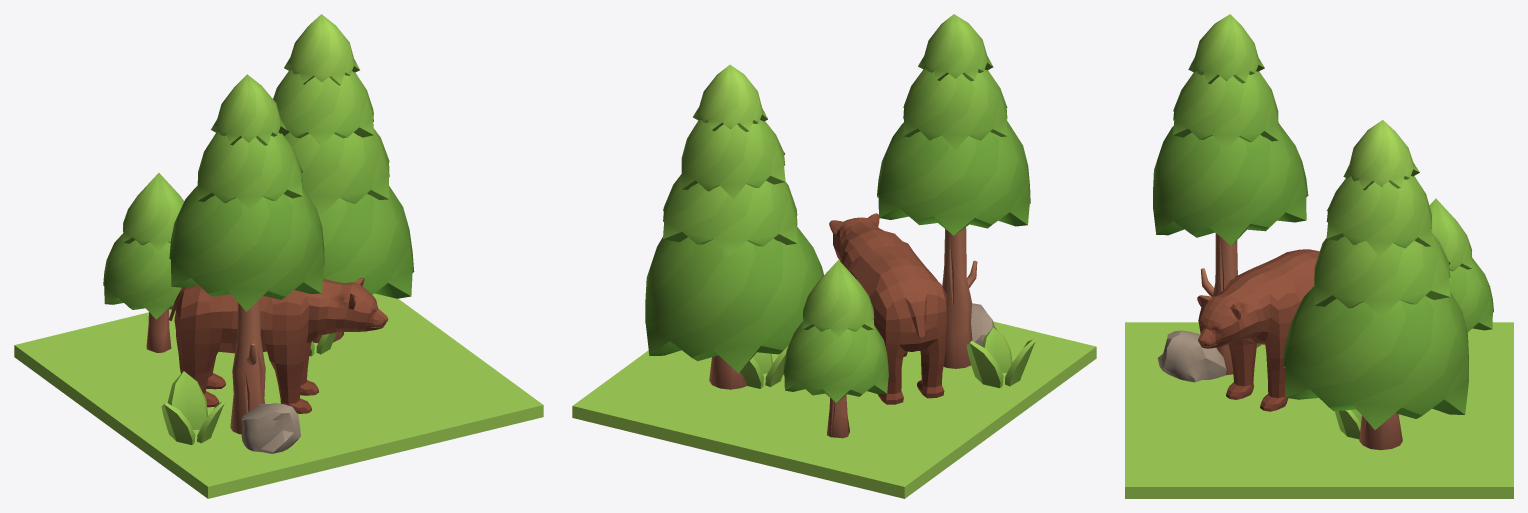
The model's file is bear.glb.
The picture shows the model from 3 angles, left to right: view 1: azimuth 30°, elevation 25°; view 2: azimuth 150°, elevation 25°; view 3: azimuth 270°, elevation 25°; orthographic projection.
Visible parts, largest first — view 1: Bear; view 2: Bear; view 3: Bear.
Boxes of the visible parts, x1,y1,x2,y2 form: Bear: [14, 14, 543, 498]; Bear: [572, 14, 1096, 498]; Bear: [1125, 14, 1513, 498].
Bounding box in the file's own units: 0.29 × 0.3143 × 0.29.
1 material, 1 textured.
